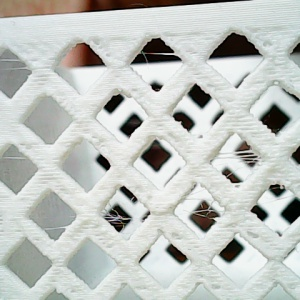3dpstringing: (99, 196, 147, 235), (179, 187, 224, 228), (217, 148, 261, 184), (128, 48, 183, 72), (37, 211, 79, 237), (2, 52, 36, 75), (259, 184, 294, 204), (3, 153, 32, 166)
3dpunderextrusion: (227, 220, 266, 243)
